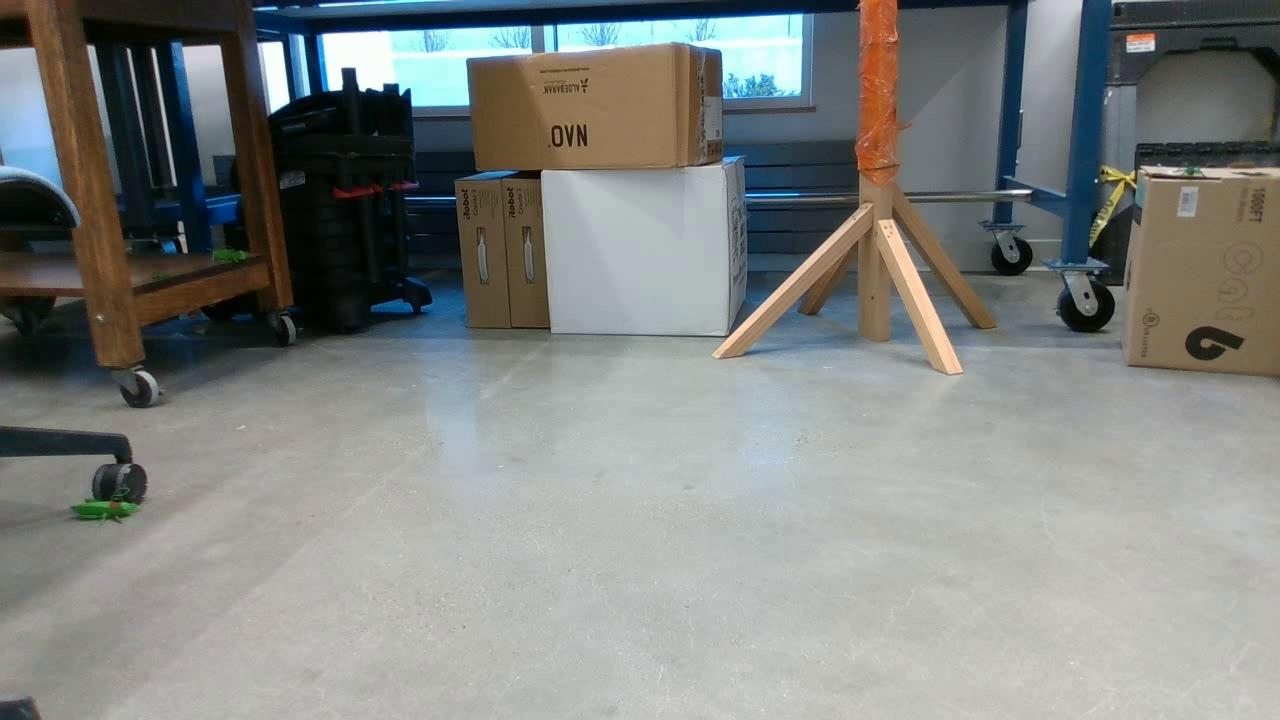grasshopper: (67, 497, 136, 524), (212, 248, 251, 267)
